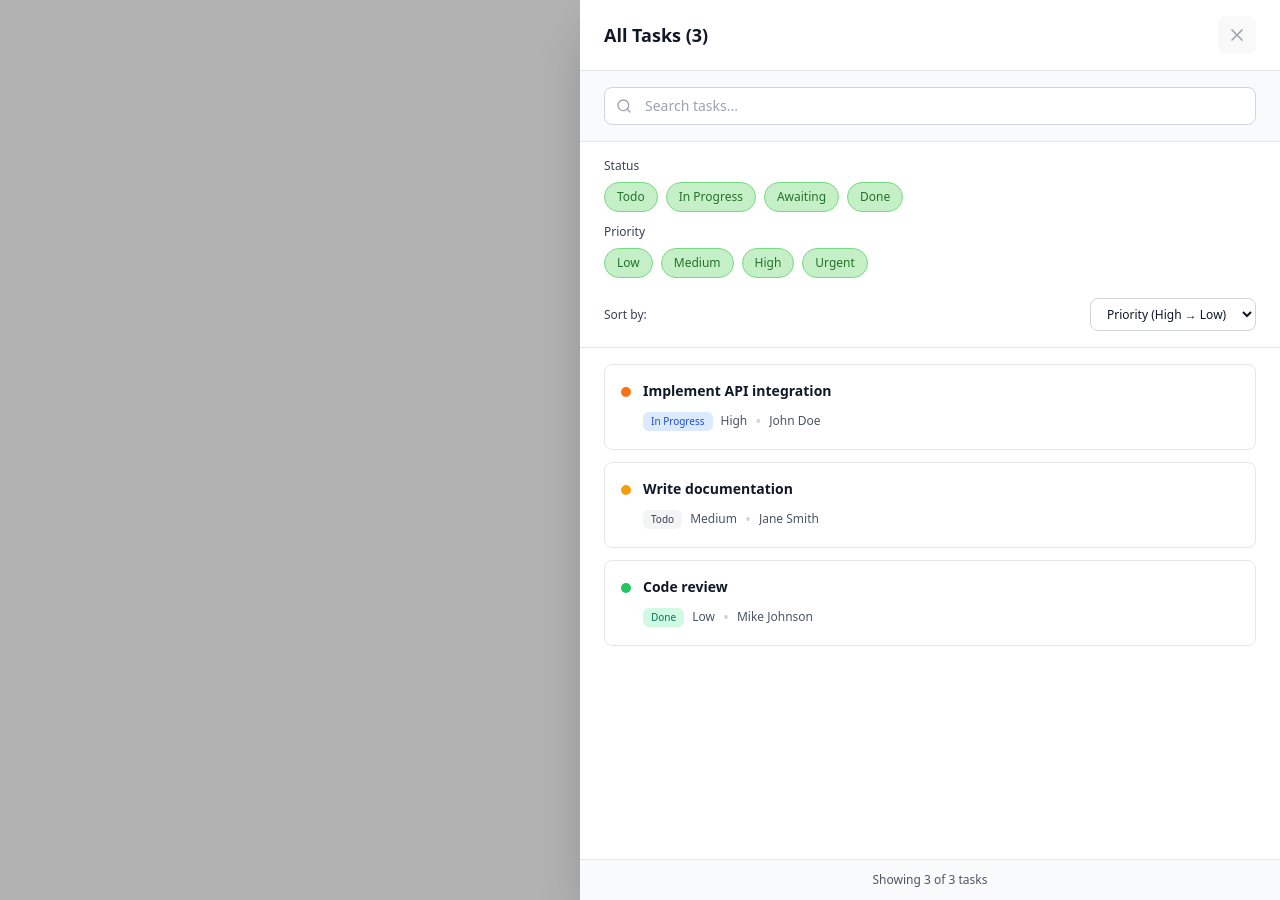
Test case: ViewAllTasksModal › Empty State › should show no results state when filters exclude all tasks
Click the checkbox with test id "filter-todo-checkbox". click: (631, 197)
box: [604,182,658,212]
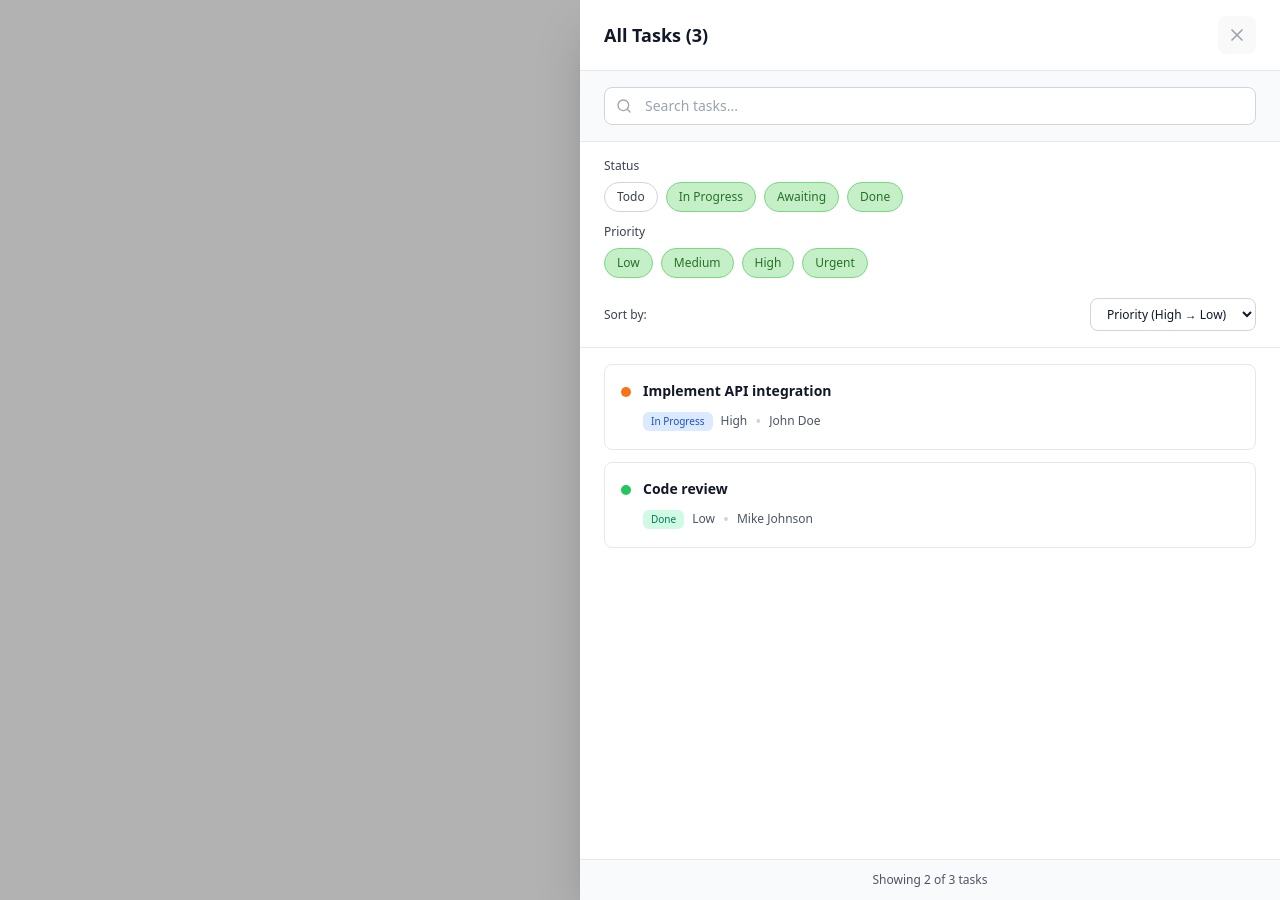
Click the checkbox with test id "filter-inProgress-checkbox". click: (711, 197)
box: [666,182,756,212]
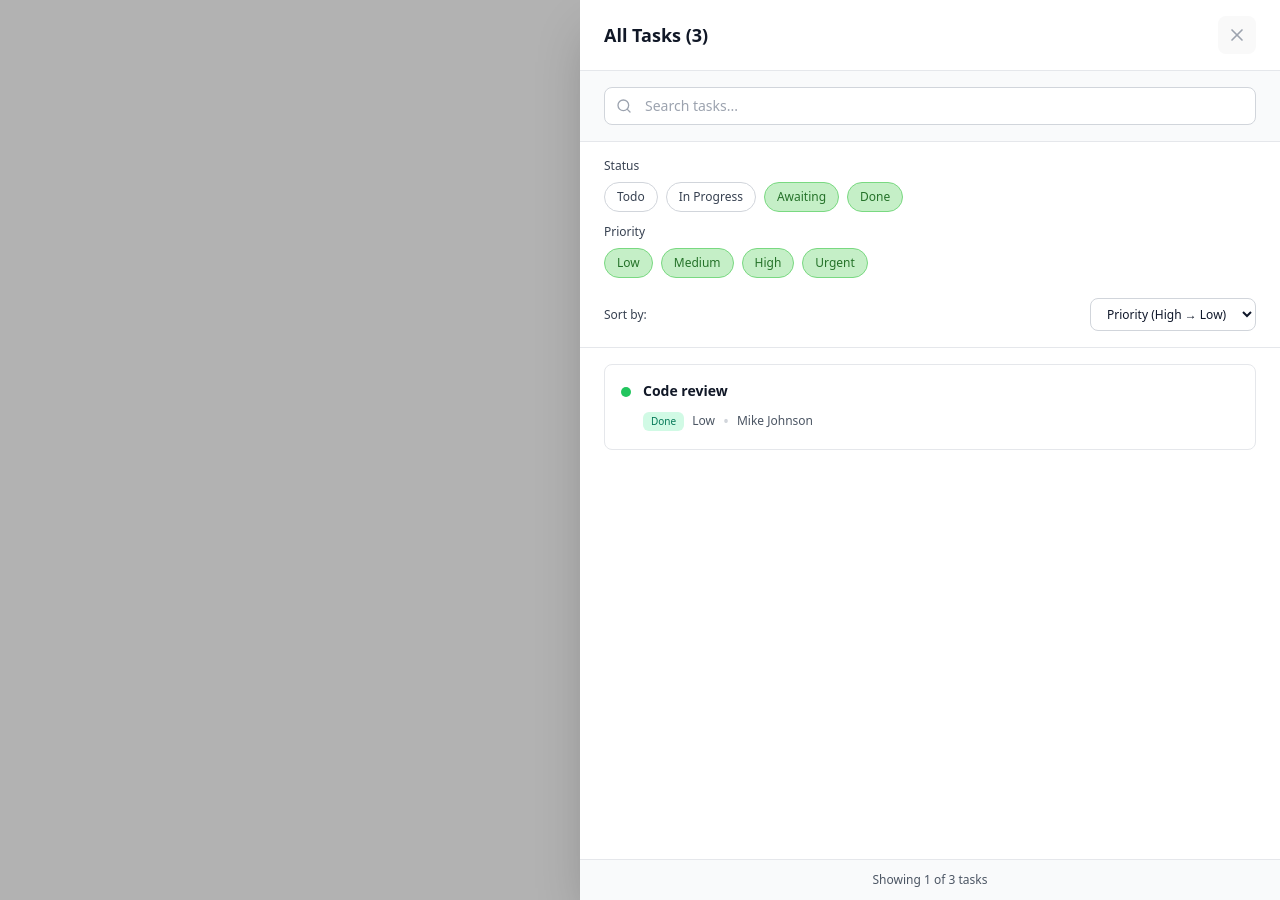
Click the checkbox with test id "filter-awaiting-checkbox". click: (802, 197)
box: [764,182,839,212]
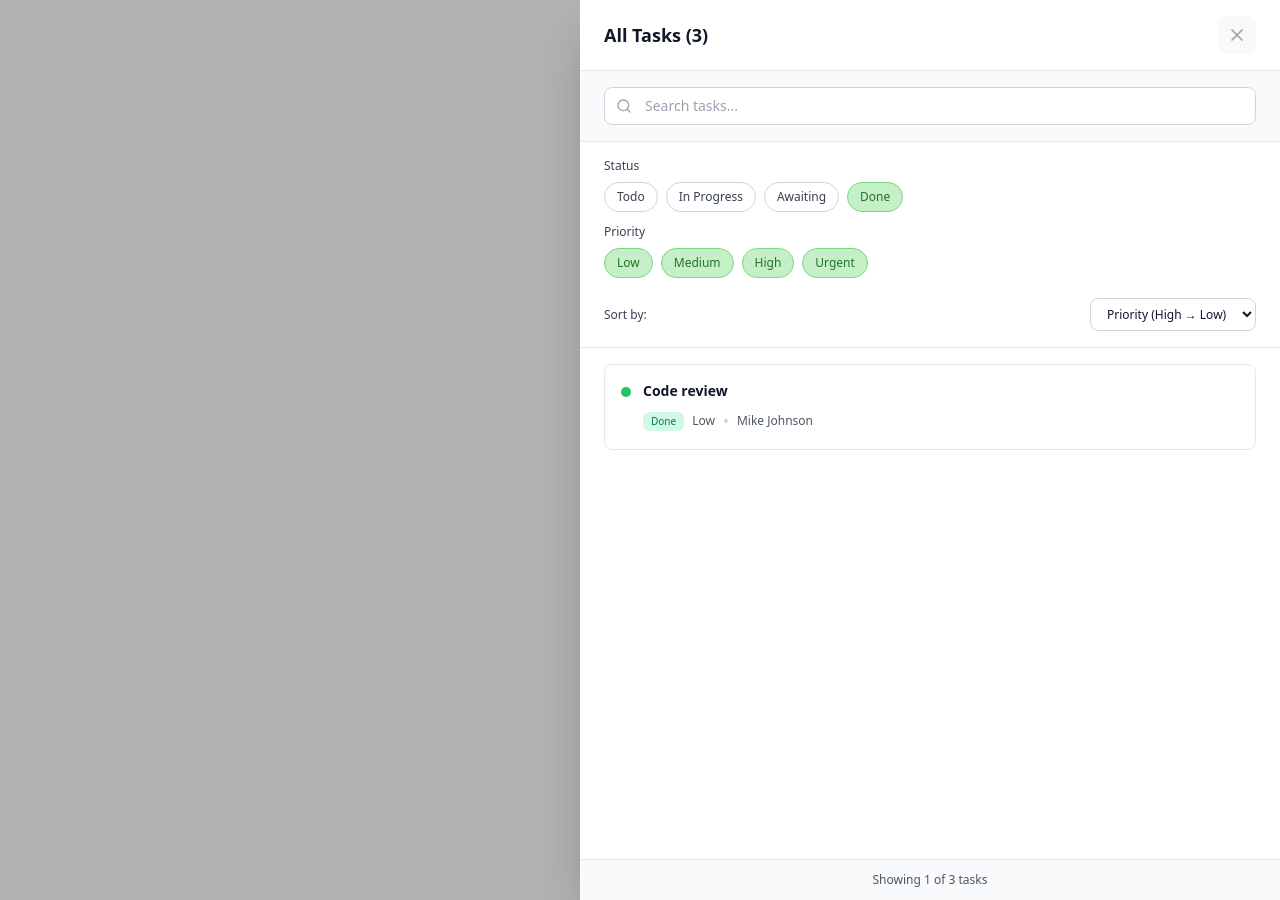
Click the checkbox with test id "filter-done-checkbox". click: (875, 197)
box: [847,182,903,212]
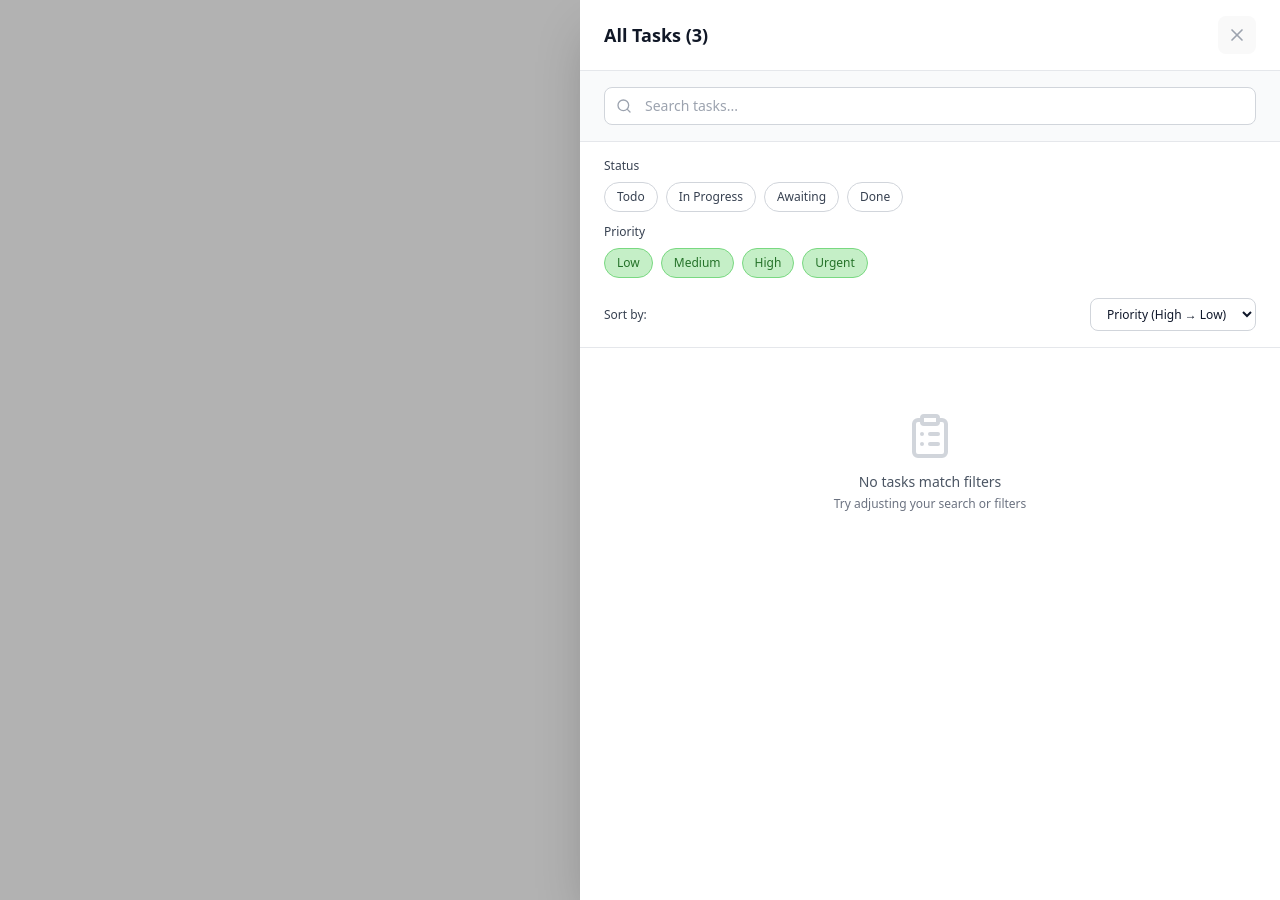
Result: the element with test id "no-results-state" is shown at [834,412,1026,512]
Result: the text "No tasks match filters" is shown at [859,472,1001,491]
